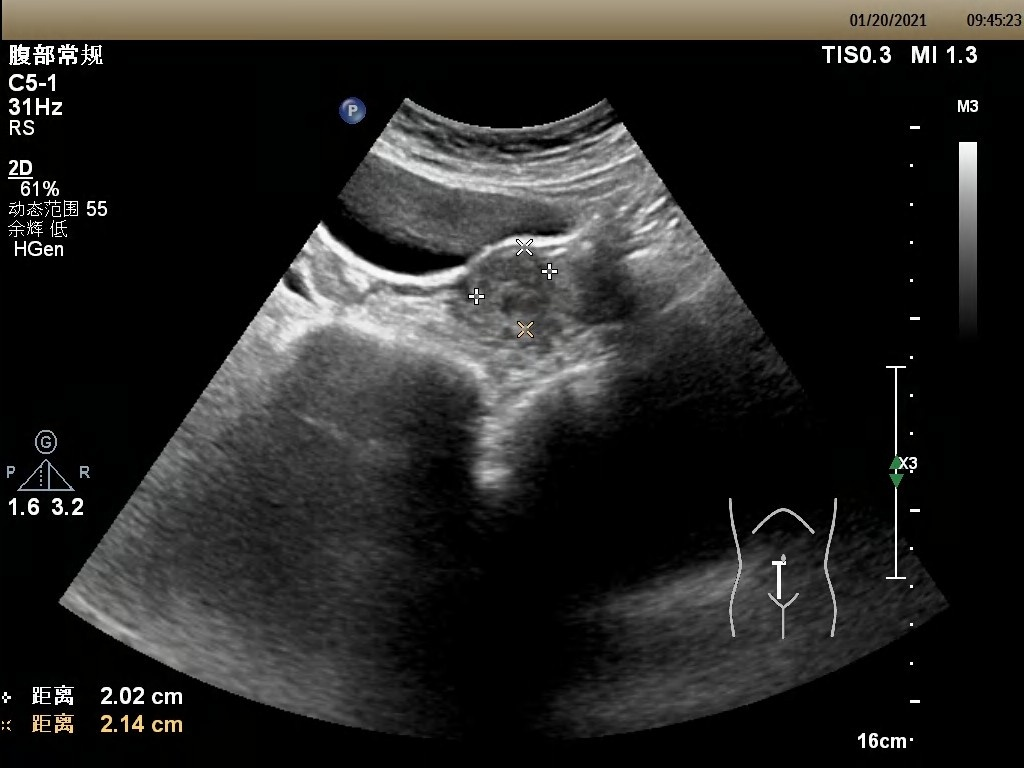肌瘤: (477, 248, 549, 332)
